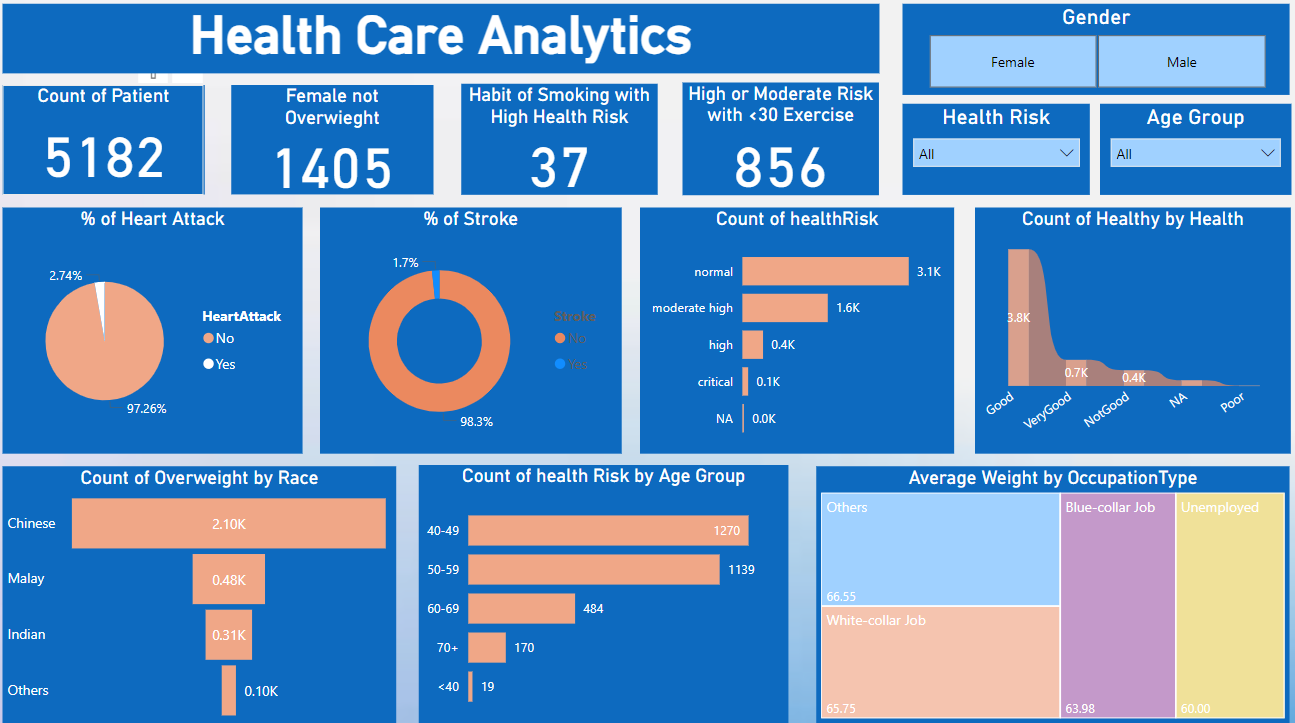

This screenshot's page, from the dashboard's own definition file:
{"tool":"powerbi","page":{"name":"Page 1","canvas":[1280,720],"ordinal":0},"visuals":[{"type":"card","title":"Count of Patient","fields":{"Values":["CountNonNull(Sample_Data.Gender)"]},"box":[16.5,91.9,194.9,105.7],"z":0},{"type":"pieChart","title":"% of Heart Attack","fields":{"Category":["Sample_Data.HeartAttack"],"Y":["CountNonNull(Sample_Data.Gender)"]},"box":[16.5,209.9,289.5,237.4],"z":1000},{"type":"card","title":"Female not Overwieght","fields":{"Values":["CountNonNull(Sample_Data.Overweight)"]},"box":[237.4,91.9,194.9,105.7],"z":2000},{"type":"donutChart","title":"% of Stroke","fields":{"Category":["Sample_Data.Stroke"],"Y":["CountNonNull(Sample_Data.Gender)"]},"box":[323.8,209.9,290.9,237.4],"z":3000},{"type":"barChart","title":"Count of healthRisk","fields":{"Category":["Sample_Data.healthRisk"],"Y":["CountNonNull(Sample_Data.healthRisk)"]},"box":[632.6,209.9,303.3,237.4],"z":4000},{"type":"treemap","title":"Average Weight by OccupationType","fields":{"Group":["Sample_Data.OccupationType"],"Values":["Avg(Sample_Data.Weight)"]},"box":[802.7,459.7,456.9,248.4],"z":5000},{"type":"funnel","fields":{"Category":["Sample_Data.Race"],"Y":["CountNonNull(Sample_Data.Overweight)"]},"box":[16.5,459.7,380.1,251.1],"z":6000},{"type":"barChart","title":"Count of health Risk by Age Group","fields":{"Category":["Sample_Data.AgeGrp"],"Y":["CountNonNull(Sample_Data.healthRisk)"]},"box":[418.5,458.3,356.8,249.7],"z":7000},{"type":"card","title":"Habit of Smoking with High Health Risk","fields":{"Values":["CountNonNull(Sample_Data.Smoking)"]},"box":[459.7,90.6,189.4,107],"z":8000},{"type":"card","title":"High or Moderate Risk with <30 Exercise","fields":{"Values":["CountNonNull(Sample_Data.Exercise)"]},"box":[673.8,89.2,189.4,108.4],"z":9000},{"type":"slicer","title":"Gender","fields":{"Values":["Sample_Data.Gender"]},"box":[885.5,13.3,374,88.1],"z":10000},{"type":"slicer","title":"Health Risk","fields":{"Values":["Sample_Data.healthRisk"]},"box":[885.5,109.8,181,88.1],"z":11000},{"type":"slicer","title":"Age Group","fields":{"Values":["Sample_Data.AgeGrp"]},"box":[1076.1,109.8,184.6,88.1],"z":12000},{"type":"ribbonChart","fields":{"Category":["Sample_Data.Health"],"Y":["CountNonNull(Sample_Data.Healthy)"]},"box":[955.1,209.9,304.6,237.4],"z":13000},{"type":"textbox","title":"Health Care Analytics","box":[16.5,13.7,846.7,67.2],"z":14000}]}

Visuals, with their boxes in screenshot pixels (x1, y1, x2, y2), scaled from the page's 1280x720 canvas onto the 1295x723 screenshot:
"Count of Patient" card: [17,92,214,198]
"% of Heart Attack" pieChart: [17,211,310,449]
"Female not Overwieght" card: [240,92,437,198]
"% of Stroke" donutChart: [328,211,622,449]
"Count of healthRisk" barChart: [640,211,947,449]
"Average Weight by OccupationType" treemap: [812,462,1274,711]
funnel - Sample_Data.Race x CountNonNull(Sample_Data.Overweight): [17,462,401,714]
"Count of health Risk by Age Group" barChart: [423,460,784,711]
"Habit of Smoking with High Health Risk" card: [465,91,657,198]
"High or Moderate Risk with <30 Exercise" card: [682,90,873,198]
"Gender" slicer: [896,13,1274,102]
"Health Risk" slicer: [896,110,1079,199]
"Age Group" slicer: [1089,110,1275,199]
ribbonChart - Sample_Data.Health x CountNonNull(Sample_Data.Healthy): [966,211,1274,449]
"Health Care Analytics" textbox: [17,14,873,81]
